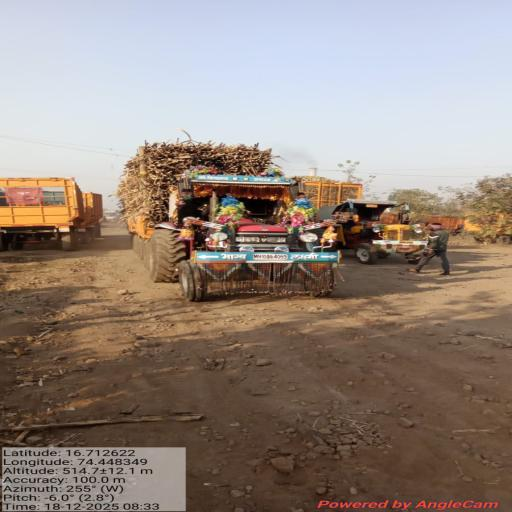number_plate: (233, 253, 310, 269)
